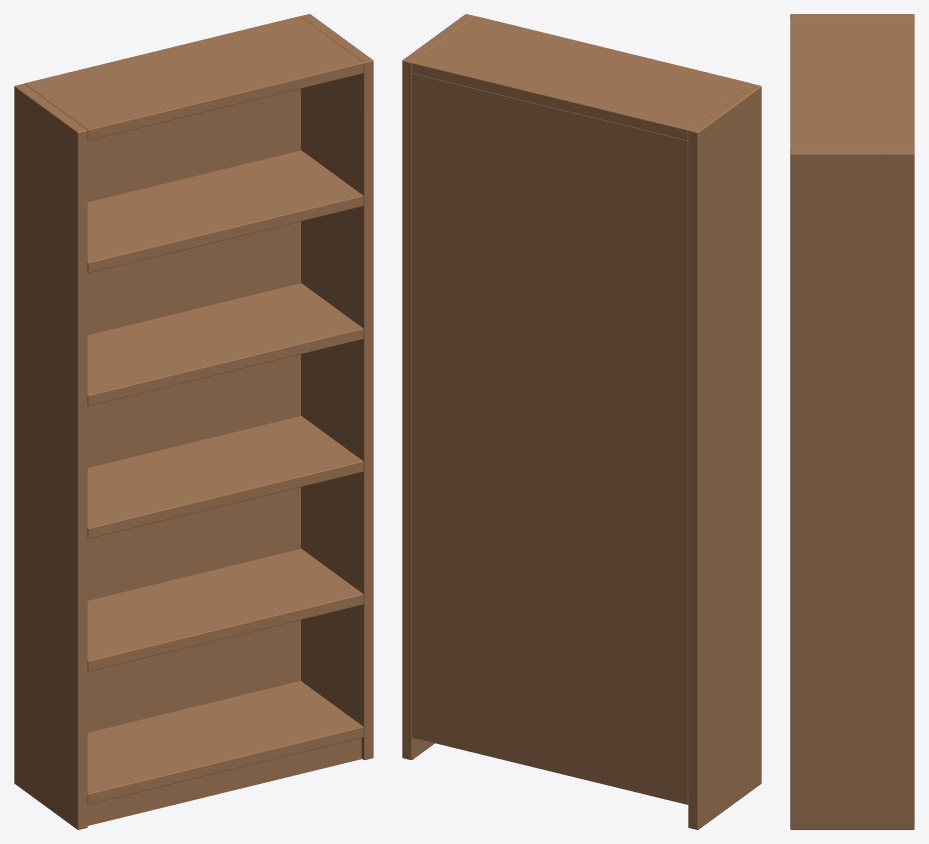
File: bookshelf.glb
3 renders of one model, left to right at view 1: azimuth 30°, elevation 25°; view 2: azimuth 150°, elevation 25°; view 3: azimuth 270°, elevation 25°, orthographic. The views are drawn at different scales.
Visible parts, largest first — view 1: bookshelf; view 2: bookshelf; view 3: bookshelf.
Part boxes in pixels (bbox=[...]): bookshelf: bbox=[14, 14, 373, 829]; bookshelf: bbox=[402, 14, 761, 829]; bookshelf: bbox=[790, 14, 914, 829].
Bounding box in the file's own units: 0.8 × 1.8 × 0.3.
